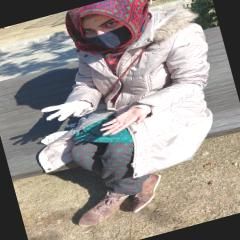gloved: (42, 94, 92, 125)
not-gloved: (96, 105, 148, 137)
